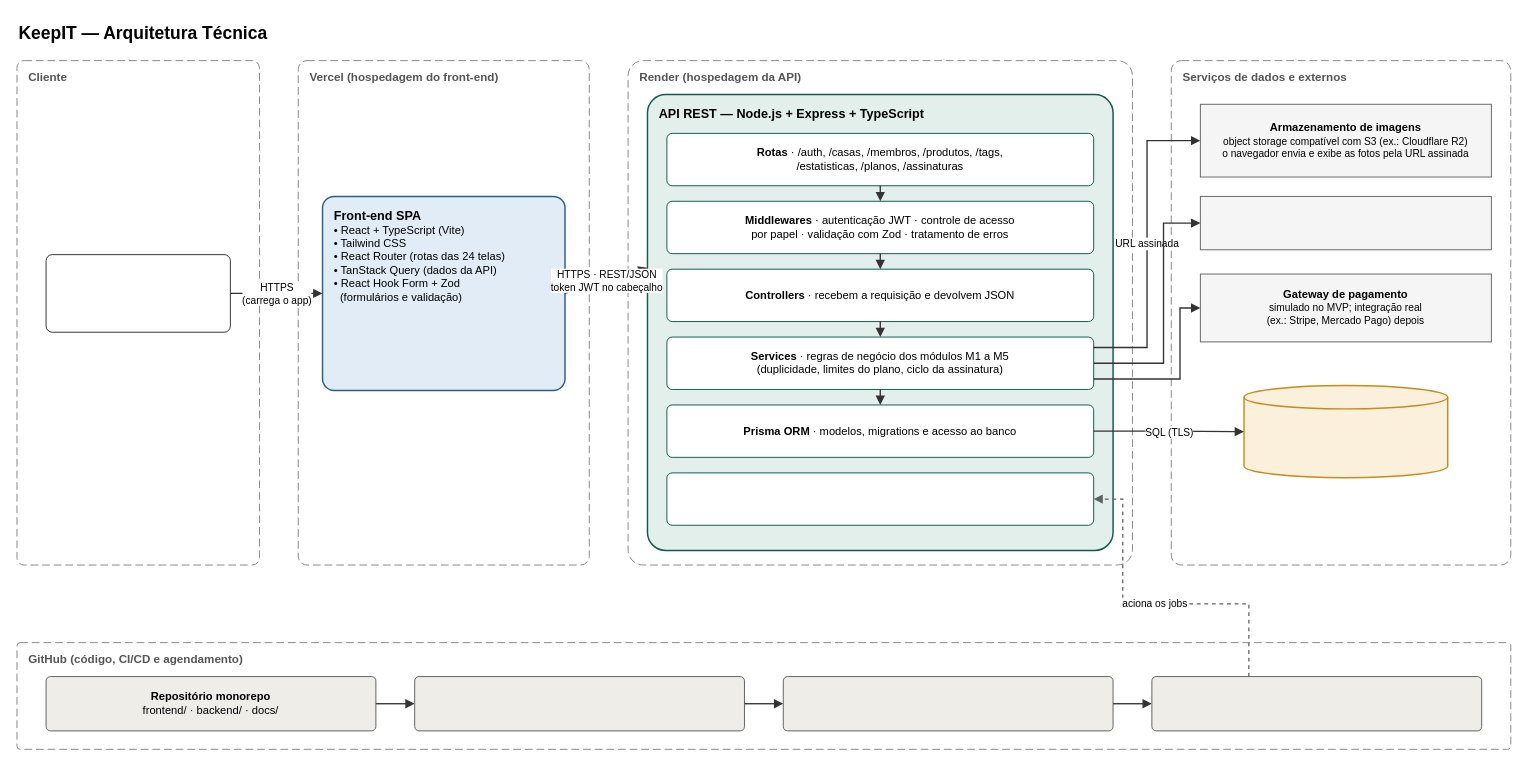
This 1528x766 diagram has some shape labels left out. The shapes that lost their labels are listed below. From the top down, each one's centre as x and y in pixels, then its label:
[1345,222]: Serviço de e-mail API transacional (ex.: Resend)
[137,293]: Navegador celular ou desktop (layout responsivo)
[1345,431]: PostgreSQL Neon (banco gerenciado)
[880,498]: Jobs · expirar assinaturas · apagar contas excluídas
[579,703]: GitHub Actions — CI lint, testes e build a cada pull request
[947,703]: Deploy automático branch main → Vercel e Render
[1316,703]: Workflow agendado chama a rota protegida dos Jobs a cada hora
